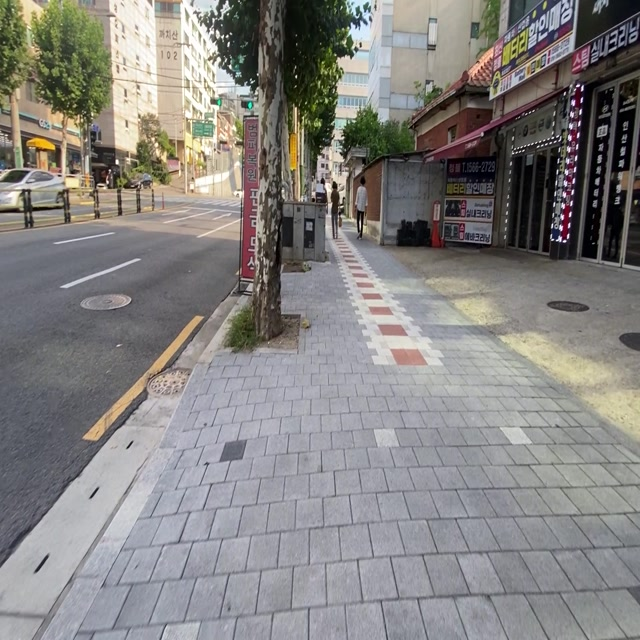Vehicle: (0, 168, 66, 210)
